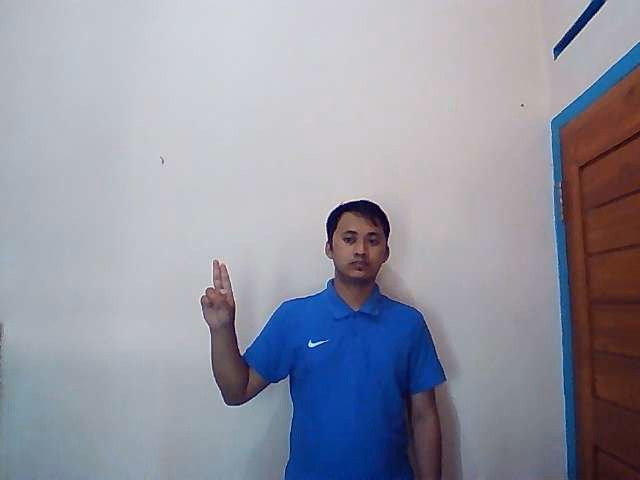U: (199, 258, 236, 329)
